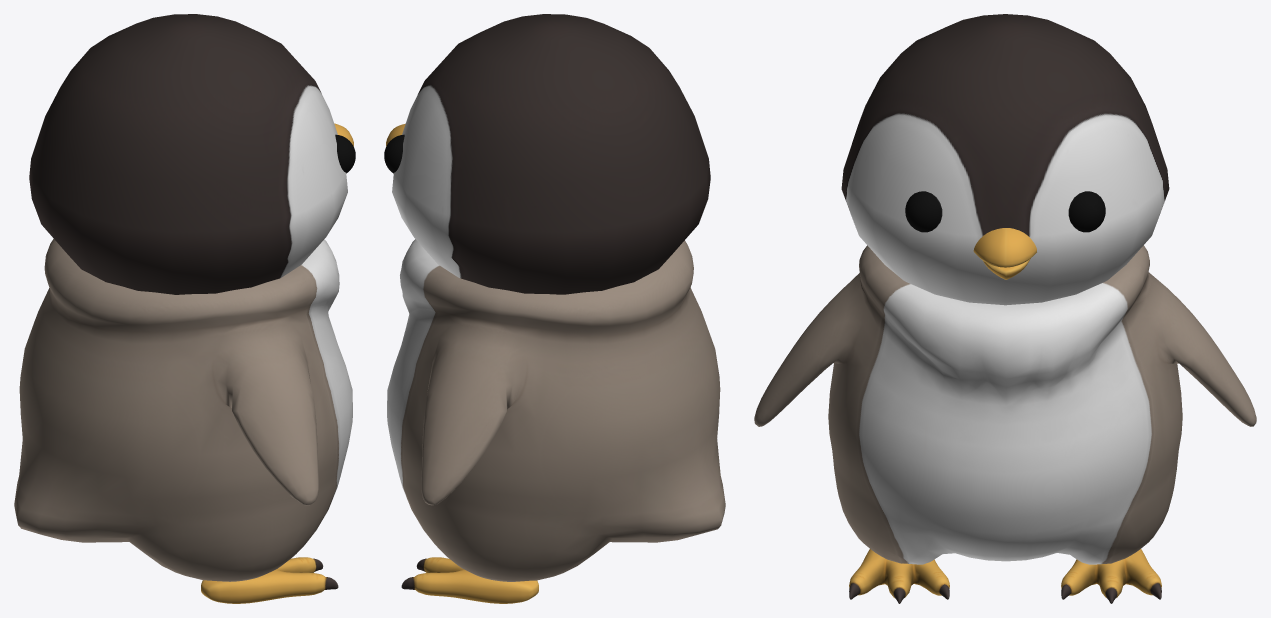
The model's file is penguin.fbx.
3 views of the same model, side by side, from view 1: azimuth 30°, elevation 25°; view 2: azimuth 150°, elevation 25°; view 3: azimuth 270°, elevation 25° (orthographic). The views are drawn at different scales.
Visible parts, largest first — view 1: Penguin2_lowpoly.001; view 2: Penguin2_lowpoly.001; view 3: Penguin2_lowpoly.001.
Boxes of the visible parts, x1=… form: Penguin2_lowpoly.001: x1=14, y1=14, x2=355, y2=603; Penguin2_lowpoly.001: x1=384, y1=14, x2=725, y2=603; Penguin2_lowpoly.001: x1=754, y1=14, x2=1256, y2=603.
Bounding box in the file's own units: 8.57 × 12.99 × 10.91.
1 material, 1 textured.
